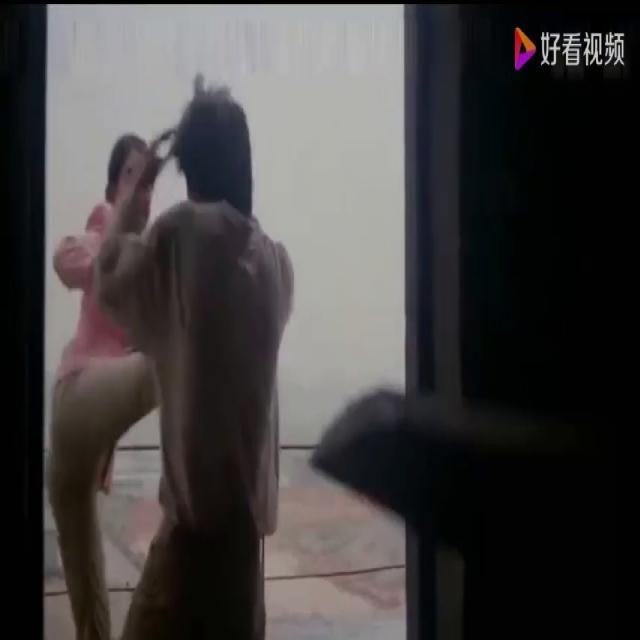fight: (52, 86, 294, 640)
